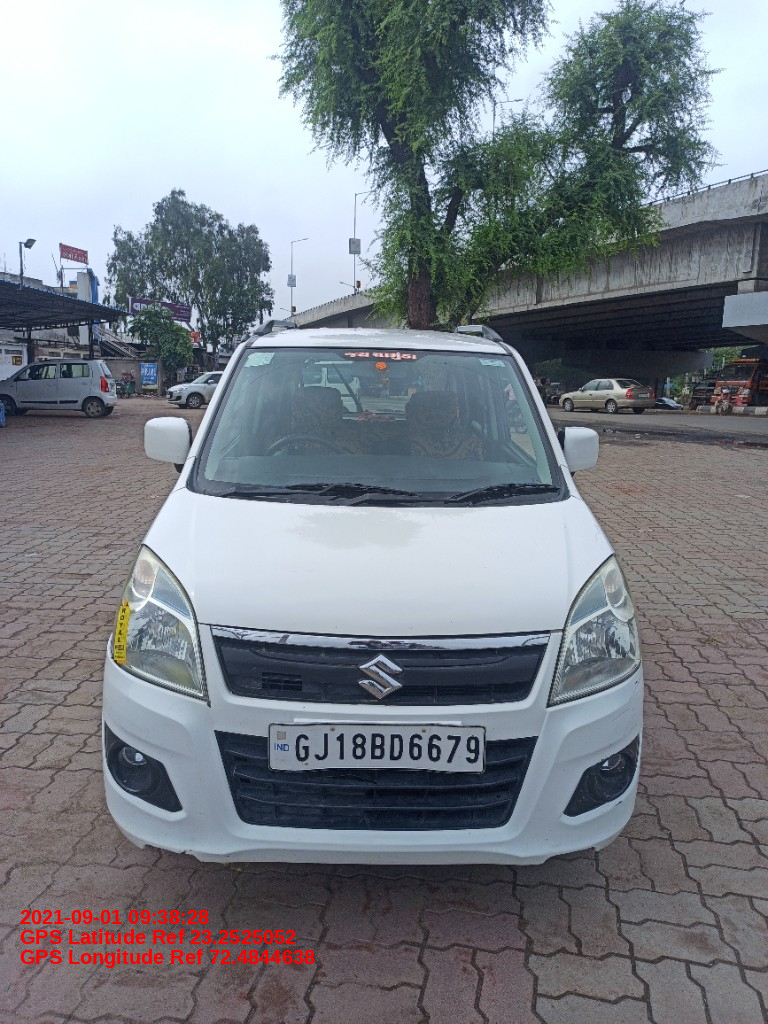Scratched: (610, 705, 634, 724), (219, 849, 237, 863), (202, 698, 217, 712), (177, 845, 194, 856), (631, 674, 642, 690), (613, 798, 627, 809)
